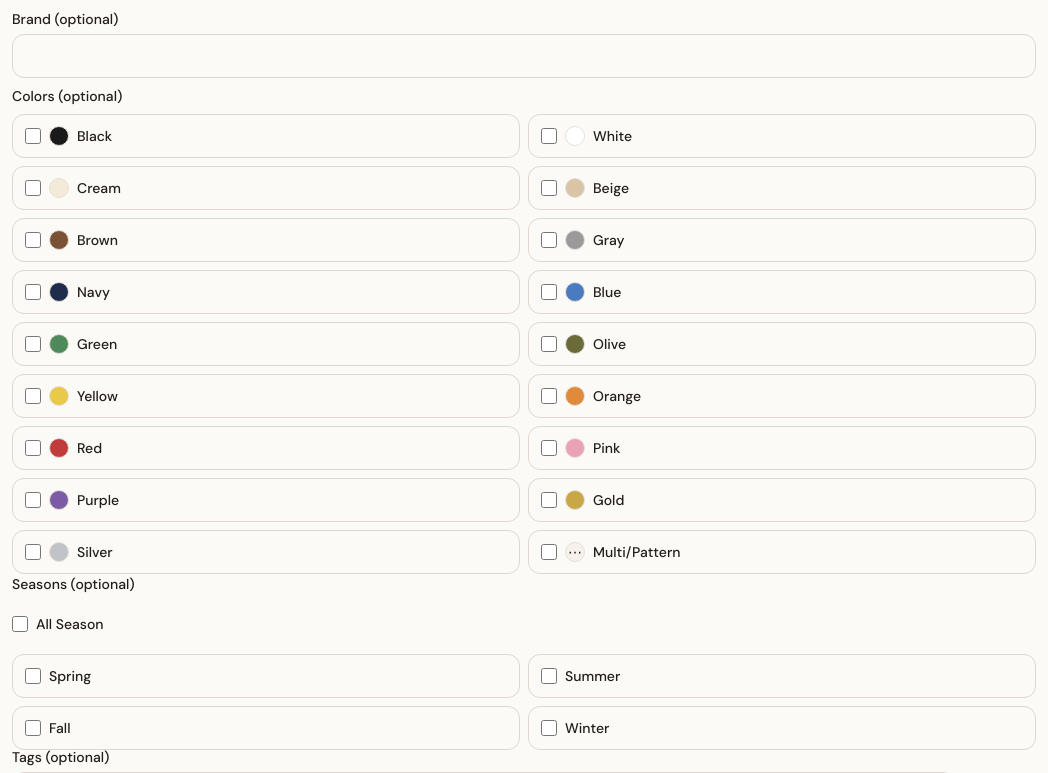
Test: All Season selects all four seasons, and individual seasons can be removed
What coordinates should you click on to do the following:
click the checkbox labelled "All Season"
I would click on:
 (20, 624)
Its box is top-left (12, 616), bottom-right (28, 632).
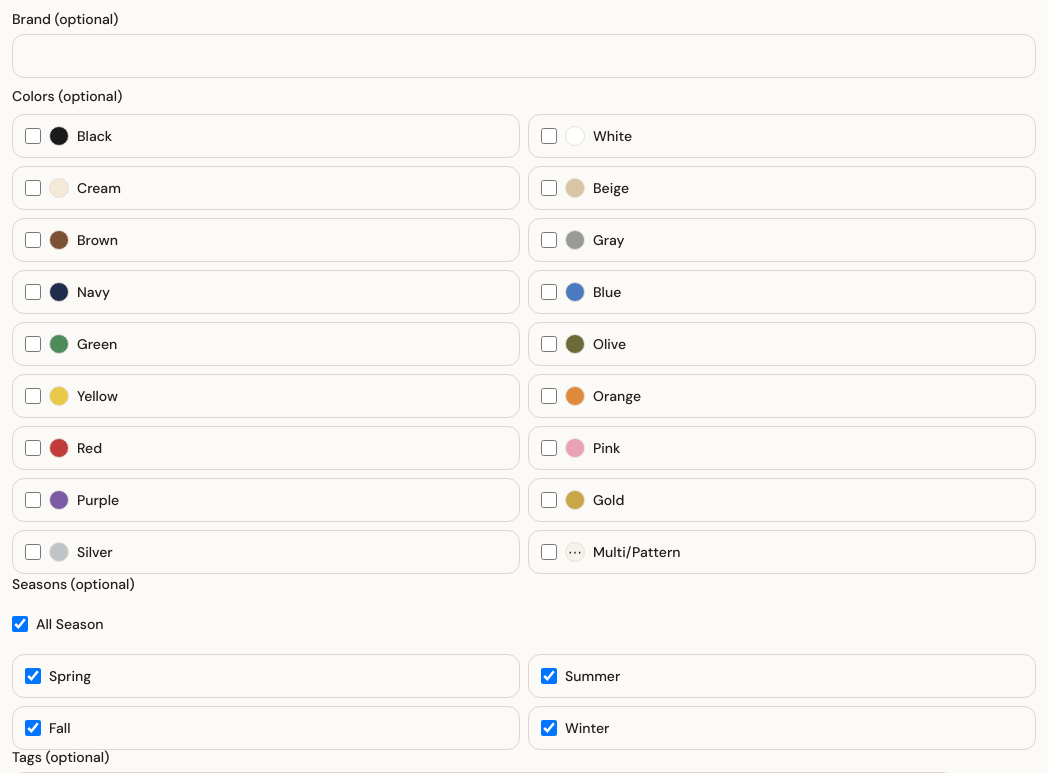
Expected: the checkbox labelled "Spring" is checked
Expected: the checkbox labelled "Summer" is checked, top-left (541, 668), bottom-right (557, 684)
Expected: the checkbox labelled "Fall" is checked, top-left (25, 720), bottom-right (41, 736)
What coordinates should you click on to do the following:
click the checkbox labelled "Spring"
I would click on:
 (33, 676)
Its box is top-left (25, 668), bottom-right (41, 684).
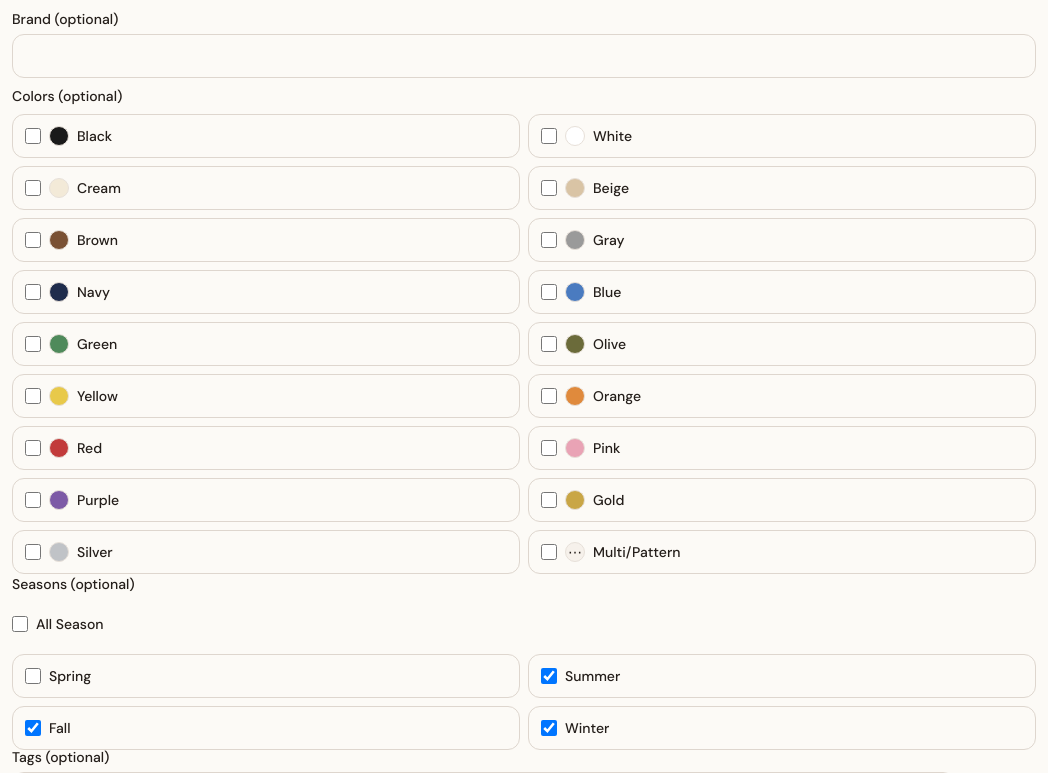
Expected: the checkbox labelled "All Season" is not checked
Expected: the checkbox labelled "Summer" is checked, top-left (541, 668), bottom-right (557, 684)
What coordinates should you click on to do the following:
click the checkbox labelled "All Season"
I would click on:
 (20, 624)
Its box is top-left (12, 616), bottom-right (28, 632).
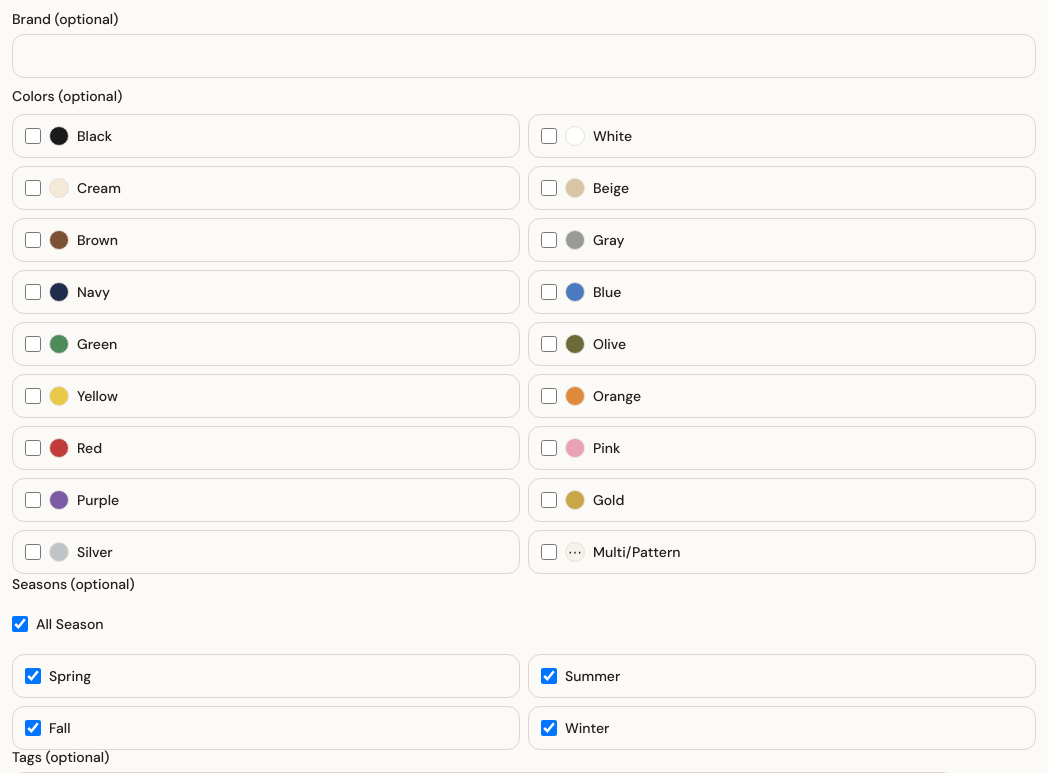
What coordinates should you click on to do the following:
click the checkbox labelled "All Season"
I would click on:
 (20, 624)
Its box is top-left (12, 616), bottom-right (28, 632).
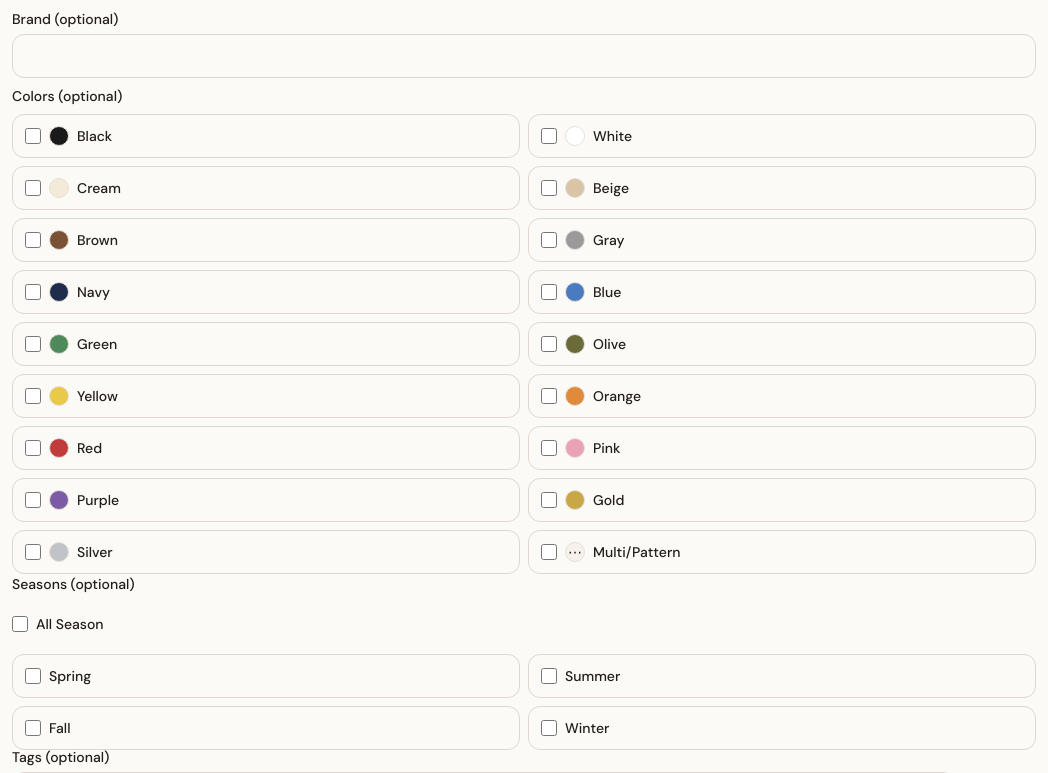
Expected: the checkbox labelled "Summer" is not checked, top-left (541, 668), bottom-right (557, 684)
